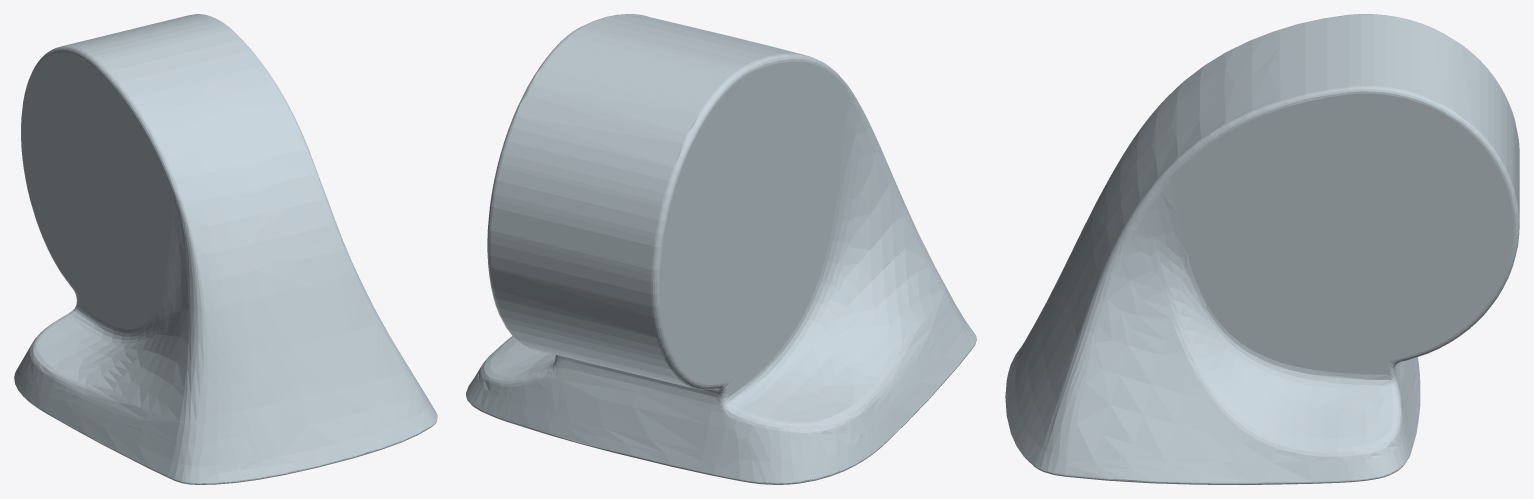
File: left_shoulder_pitch_link.dae
3 views of the same model, side by side, from view 1: azimuth 30°, elevation 25°; view 2: azimuth 150°, elevation 25°; view 3: azimuth 270°, elevation 25° (orthographic). The views are drawn at different scales.
Visible parts, largest first — view 1: left_shoulder_pitch_link; view 2: left_shoulder_pitch_link; view 3: left_shoulder_pitch_link.
Part boxes in pixels (x1=…): left_shoulder_pitch_link: x1=14, y1=14, x2=437, y2=484; left_shoulder_pitch_link: x1=466, y1=14, x2=976, y2=484; left_shoulder_pitch_link: x1=1005, y1=14, x2=1519, y2=484.
Size of the model in its own units: 0.1042 by 0.1 by 0.1339.
